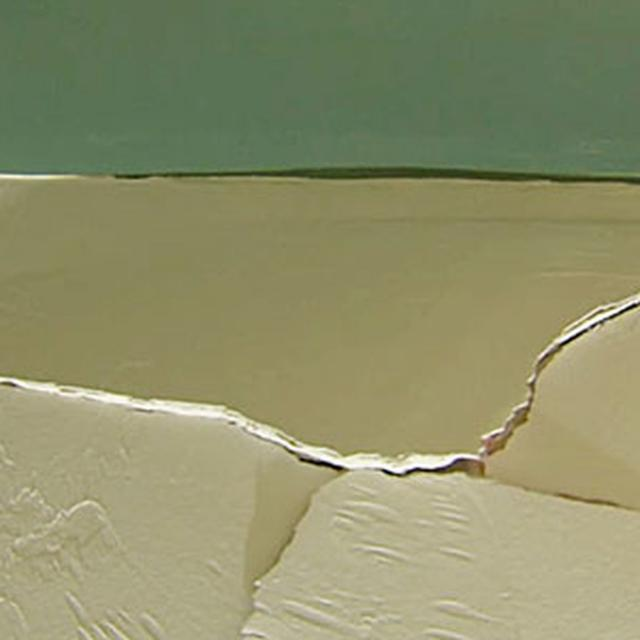leak: (3, 366, 470, 489), (476, 286, 640, 513), (1, 164, 640, 197), (237, 489, 340, 640)
